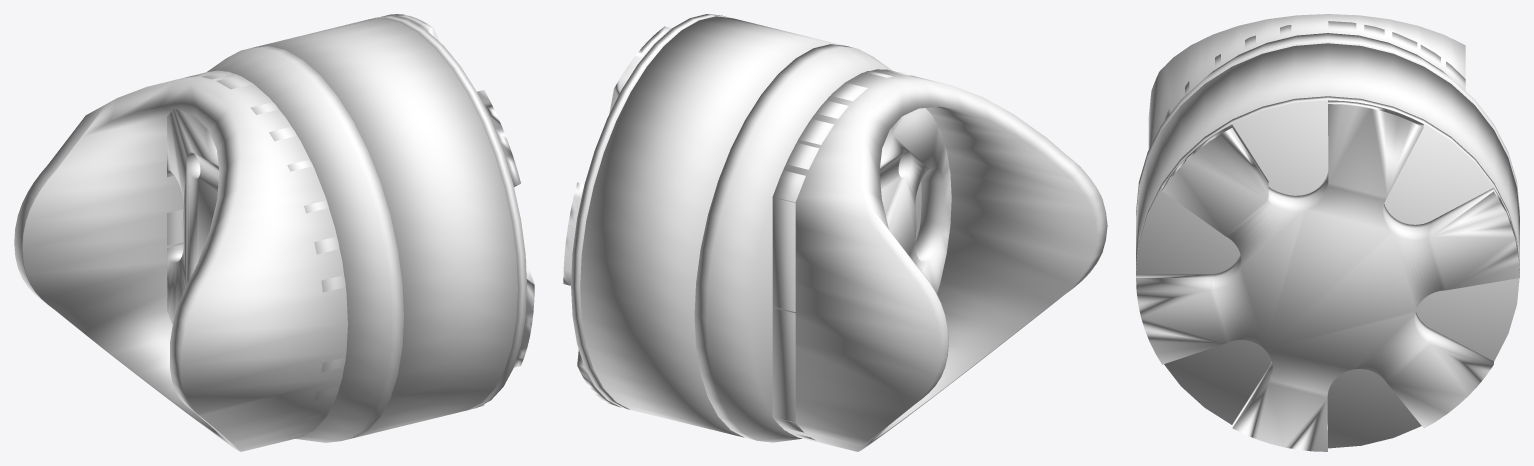
File: skycat_tilt_left.dae
3 renders of one model, left to right at view 1: azimuth 30°, elevation 25°; view 2: azimuth 150°, elevation 25°; view 3: azimuth 270°, elevation 25°, orthographic. The views are drawn at different scales.
Parts seen in each view (by area): view 1: Tube003.001, Zylinder02.001, Motor Flansch.001, Kreis06.001, Zylinder03.001, ~CS_SPINNER1.001; view 2: Tube003.001, Zylinder02.001, Motor Flansch.001, Kreis06.001, Zylinder03.001, ~CS_SPINNER1.001; view 3: ~CS_SPINNER1.001, Zylinder03.001, Zylinder02.001, Tube003.001, Motor Flansch.001, Kreis06.001.
Boxes of the visible parts, bbox=[...] form: Tube003.001: bbox=[14, 70, 347, 451]; Zylinder02.001: bbox=[253, 18, 517, 437]; Motor Flansch.001: bbox=[207, 46, 403, 442]; Kreis06.001: bbox=[167, 70, 345, 437]; Zylinder03.001: bbox=[368, 16, 526, 409]; ~CS_SPINNER1.001: bbox=[381, 14, 534, 406]; Tube003.001: bbox=[772, 69, 1107, 451]; Zylinder02.001: bbox=[580, 16, 845, 437]; Motor Flansch.001: bbox=[694, 44, 921, 442]; Kreis06.001: bbox=[772, 69, 951, 440]; Zylinder03.001: bbox=[571, 14, 730, 409]; ~CS_SPINNER1.001: bbox=[563, 14, 717, 407]; ~CS_SPINNER1.001: bbox=[1136, 100, 1519, 451]; Zylinder03.001: bbox=[1136, 96, 1519, 448]; Zylinder02.001: bbox=[1136, 43, 1519, 268]; Tube003.001: bbox=[1148, 14, 1465, 149]; Motor Flansch.001: bbox=[1136, 33, 1519, 215]; Kreis06.001: bbox=[1164, 21, 1465, 120].
Bounding box in the file's own units: 0.05 × 0.0467 × 0.0467.
